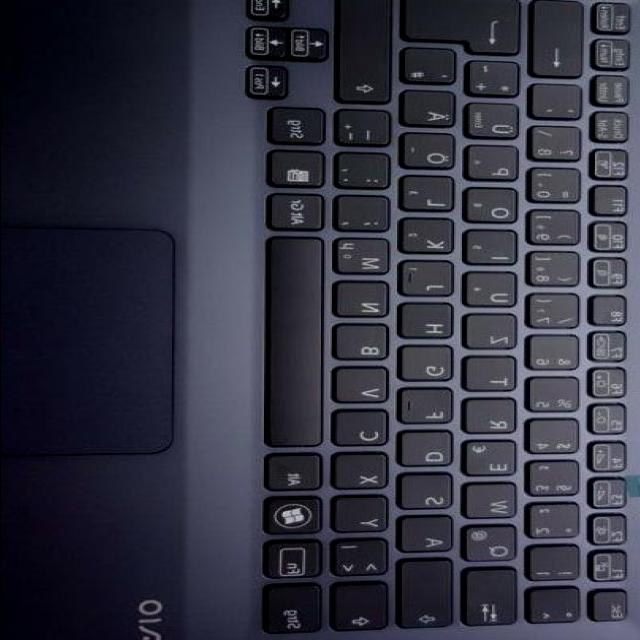0: (534, 172, 588, 208)
1: (532, 550, 586, 586)
2: (532, 506, 586, 543)
3: (532, 463, 586, 502)
4: (533, 423, 585, 459)
5: (532, 381, 586, 418)
6: (532, 339, 586, 375)
7: (532, 297, 586, 333)
8: (532, 257, 586, 291)
9: (532, 214, 588, 250)
a: (403, 520, 460, 557)
accent: (534, 88, 588, 124)
ae: (404, 95, 461, 131)
alt-left: (270, 458, 328, 496)
altgr-right: (273, 197, 330, 235)
b: (338, 328, 395, 366)
c: (338, 415, 395, 451)
caret: (532, 592, 586, 628)
comma: (339, 199, 396, 237)
d: (403, 435, 460, 471)
del: (535, 4, 591, 81)
e: (468, 444, 522, 480)
enter: (406, 0, 526, 59)
f: (403, 392, 460, 428)
g: (404, 351, 460, 387)
h: (404, 308, 460, 344)
hash: (406, 52, 463, 88)
i: (469, 234, 523, 270)
j: (404, 265, 461, 301)
k: (404, 223, 461, 259)
keyboard: (246, 0, 640, 640)
l: (404, 180, 461, 216)
less: (336, 543, 394, 581)
m: (338, 242, 396, 280)
minus: (339, 113, 396, 151)
n: (339, 286, 396, 322)
o: (469, 193, 525, 229)
oe: (404, 138, 461, 174)
p: (470, 150, 526, 186)
plus: (470, 65, 526, 101)
point: (339, 156, 396, 194)
q: (467, 528, 523, 566)
r: (468, 402, 522, 438)
s: (402, 477, 458, 514)
shift-left: (336, 587, 394, 636)
shift-lock: (403, 563, 460, 633)
shift-right: (341, 1, 399, 109)
space: (271, 242, 331, 452)
ss: (534, 130, 588, 166)
strg-left: (268, 589, 328, 640)
strg-right: (273, 111, 331, 149)
t: (469, 361, 523, 395)
tab: (468, 573, 525, 631)
u: (467, 276, 523, 312)
ue: (468, 106, 525, 144)
v: (339, 371, 395, 407)
w: (468, 487, 525, 524)
x: (338, 457, 395, 493)
y: (337, 500, 393, 536)
z: (467, 318, 523, 354)
